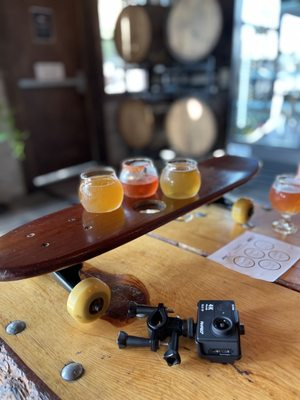curry: (195, 300, 243, 363)
sandwich: (269, 174, 300, 237)
soup: (164, 97, 218, 160)
